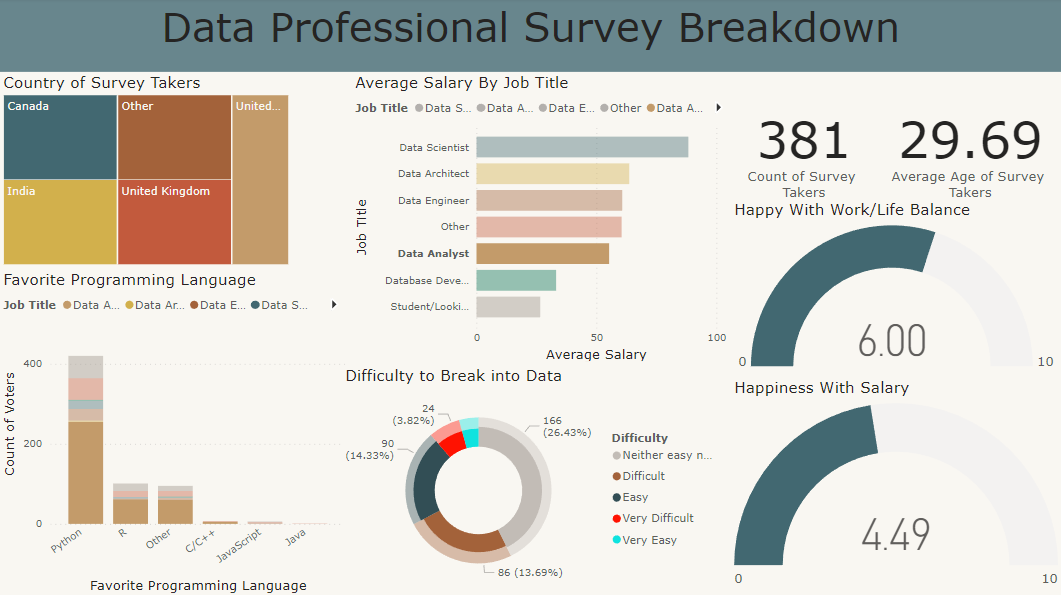

Layout of this report page (visuals, bound fields, positions):
{"tool":"powerbi","page":{"name":"Page 1","canvas":[1280,720],"ordinal":0},"visuals":[{"type":"textbox","box":[0,0,1280,89],"z":0},{"type":"card","fields":{"Values":["Count(Data Professional Survey.Unique ID)"]},"box":[880.2,89,178.1,174.7],"z":1000},{"type":"card","fields":{"Values":["Avg(Data Professional Survey.Q10 - Current Age)"]},"box":[1058.3,89,221.7,174.7],"z":2000},{"type":"barChart","title":"Average Salary By Job Title","fields":{"Category":["Data Professional Survey.Q1 - Which Title Best Fits your Current Role?.1"],"Y":["Avg(Data Professional Survey.Average Salary)"],"Series":["Data Professional Survey.Q1 - Which Title Best Fits your Current Role?.1"]},"box":[423.3,89,456.9,352.8],"z":3000},{"type":"columnChart","title":"Favorite Programming Language","fields":{"Category":["Data Professional Survey.Q5 - Favorite Programming Language.1"],"Y":["CountNonNull(Data Professional Survey.Unique ID)"],"Series":["Data Professional Survey.Q1 - Which Title Best Fits your Current Role?.1"]},"box":[0,325.9,423.3,394.8],"z":4000},{"type":"treemap","title":"Country of Survey Takers","fields":{"Group":["Data Professional Survey.Q11 - Which Country do you live in?.1"],"Values":["Count(Data Professional Survey.Q11 - Which Country do you live in?.1)"]},"box":[0,89,354.4,236.9],"z":5000},{"type":"gauge","title":"Happy With Work/Life Balance","fields":{"Y":["Avg(Data Professional Survey.Q6 - How Happy are you in your Current Position with the following? (Work/Life Bal"],"MinValue":["Min(Data Professional Survey.Q6 - How Happy are you in your Current Position with the following? (Work/Life Balance))"],"MaxValue":["Max(Data Professional Survey.Q6 - How Happy are you in your Current Position with the following? (Work/Life Balance))"]},"box":[880.2,241.9,399.8,215],"z":5001},{"type":"gauge","title":"Happiness With Salary","fields":{"Y":["Avg(Data Professional Survey.Q6 - How Happy are you in your Current Position with the following? (Salary))"],"MinValue":["Min(Data Professional Survey.Q6 - How Happy are you in your Current Position with the following? (Salary))"],"MaxValue":["Max(Data Professional Survey.Q6 - How Happy are you in your Current Position with the following? (Salary))"]},"box":[880.2,456.9,399.8,263.7],"z":5002},{"type":"donutChart","title":"Difficulty to Break into Data","fields":{"Category":["Data Professional Survey.Q7 - How difficult was it for you to break into Data?"],"Y":["CountNonNull(Data Professional Survey.Average Salary)"]},"box":[423.3,441.8,456.9,278.8],"z":5003}]}

Visuals, with their boxes in screenshot pixels (x1, y1, x2, y2), scaled from the page's 1280x720 canvas onto the 1061x595 screenshot:
textbox: x1=0 y1=0 x2=1060 y2=74
card - Count(Data Professional Survey.Unique ID): x1=730 y1=74 x2=877 y2=218
card - Avg(Data Professional Survey.Q10 - Current Age): x1=877 y1=74 x2=1060 y2=218
"Average Salary By Job Title" barChart: x1=351 y1=74 x2=730 y2=365
"Favorite Programming Language" columnChart: x1=0 y1=269 x2=351 y2=594
"Country of Survey Takers" treemap: x1=0 y1=74 x2=294 y2=269
"Happy With Work/Life Balance" gauge: x1=730 y1=200 x2=1060 y2=378
"Happiness With Salary" gauge: x1=730 y1=378 x2=1060 y2=594
"Difficulty to Break into Data" donutChart: x1=351 y1=365 x2=730 y2=594
